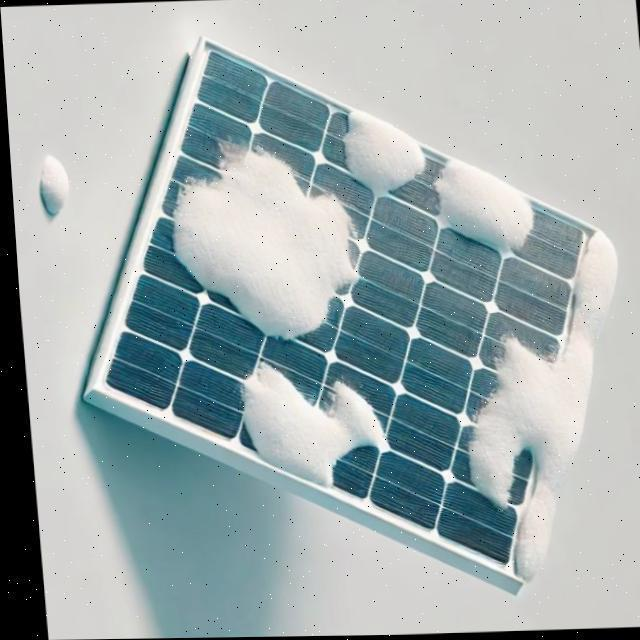Anomaly Solar Panel: (68, 43, 640, 581)
Snow: (434, 210, 603, 580), (139, 119, 386, 359), (217, 346, 398, 503), (420, 153, 544, 255), (321, 102, 433, 206)
